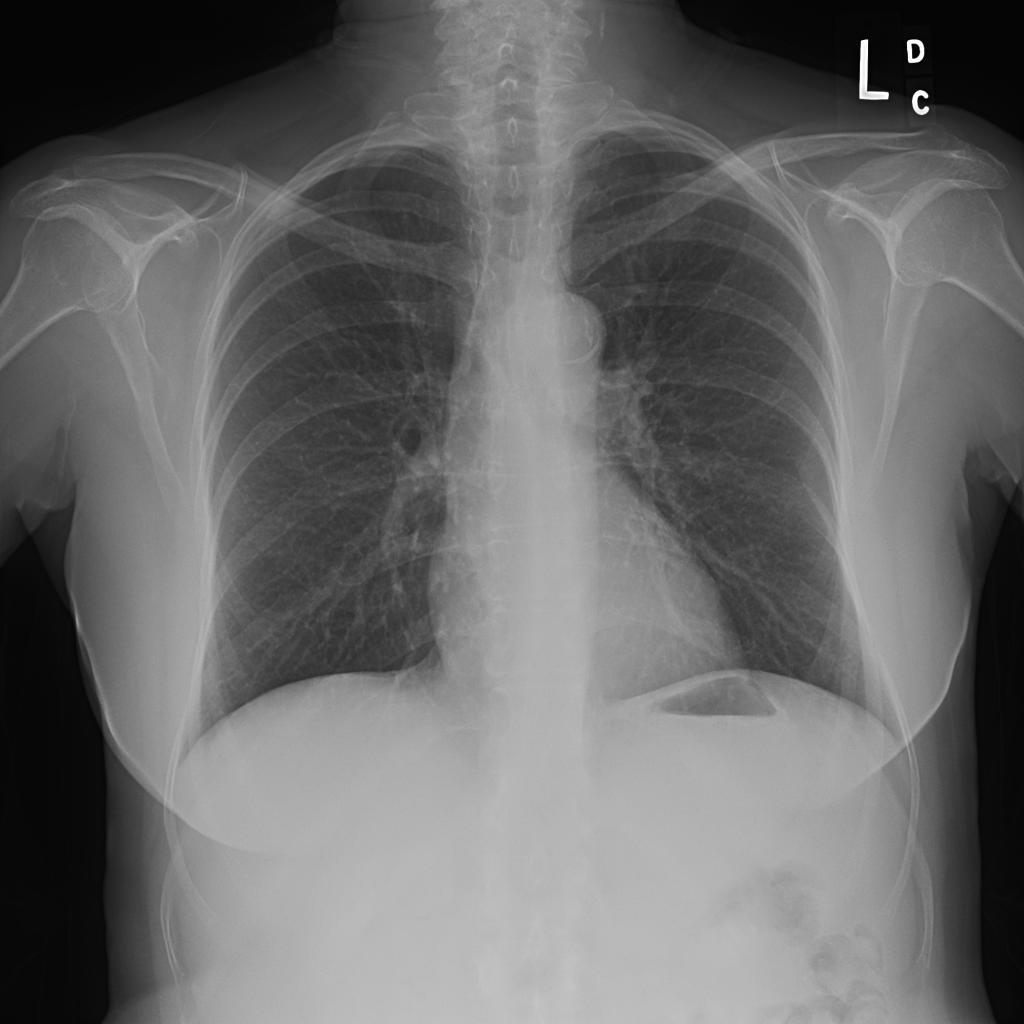Nodule: (306, 212, 352, 248), (324, 194, 357, 217)
